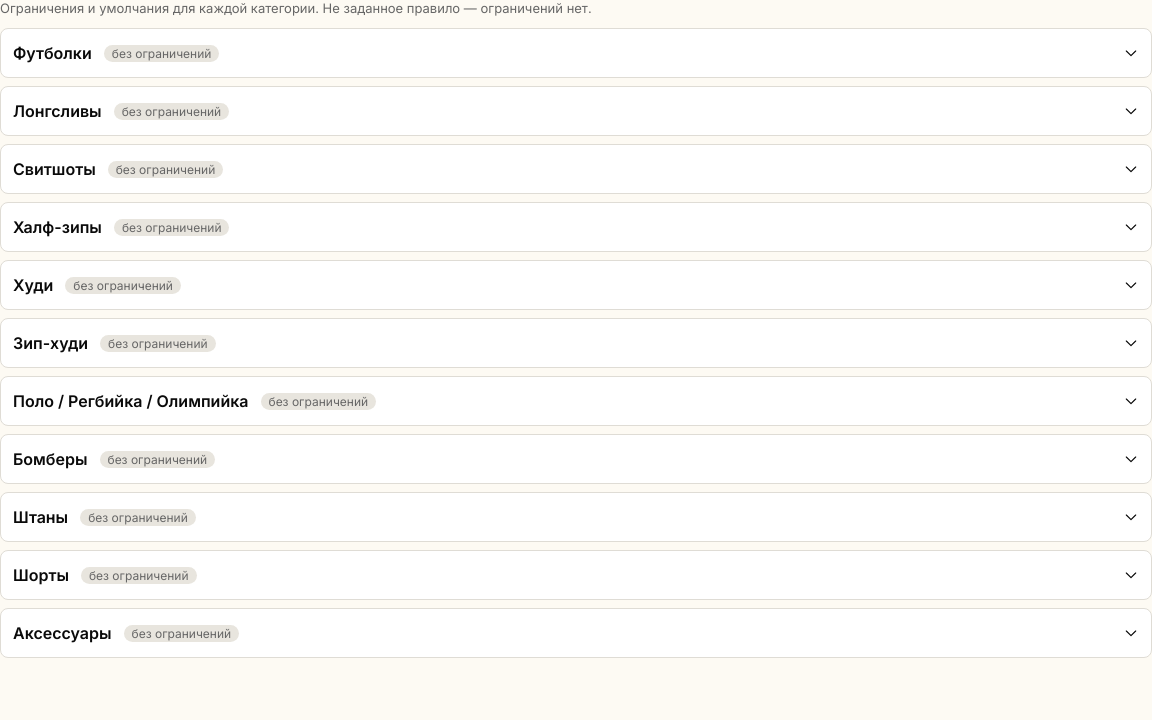
Test: CategoryRulesTab › shows zone-tech matrix headers in expanded state
What coordinates should you click on to do the following:
click the text "Худи"
I would click on:
 (33, 285)
Its box is left=13, top=275, right=53, bottom=295.
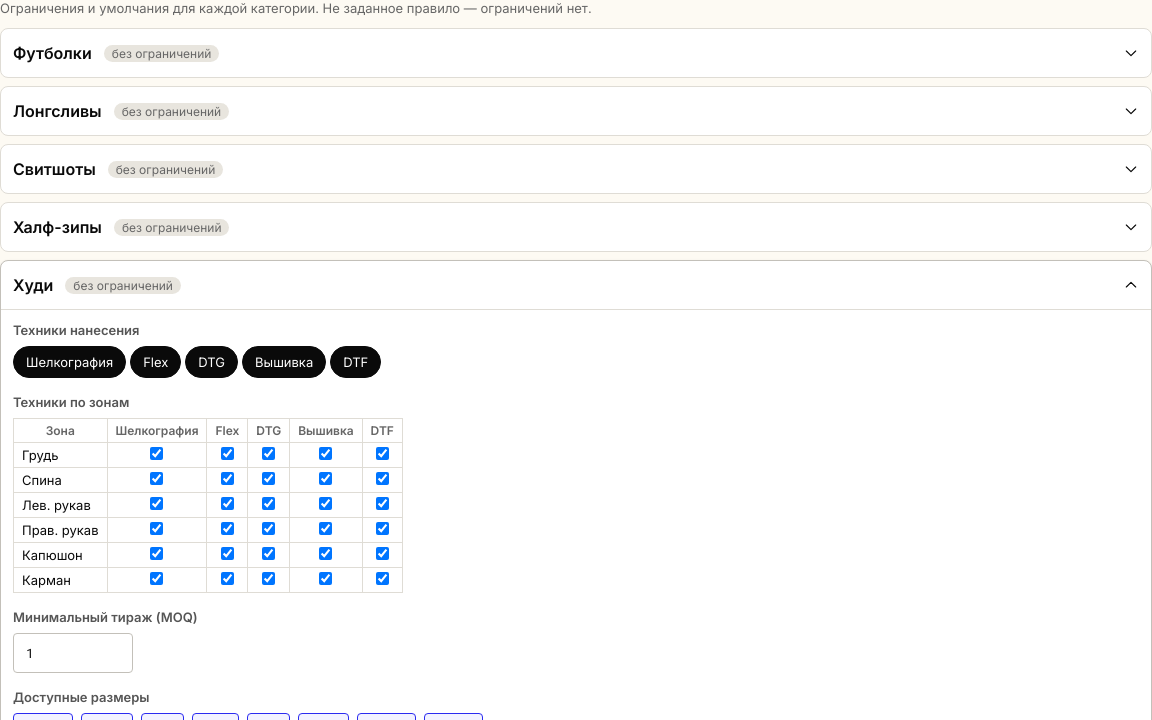
Result: the column heading "Грудь" is shown at left=14, top=442, right=107, bottom=468
Result: the column heading "Спина" is shown at left=14, top=468, right=107, bottom=492
Result: the column heading "Капюшон" is shown at left=14, top=542, right=107, bottom=568
